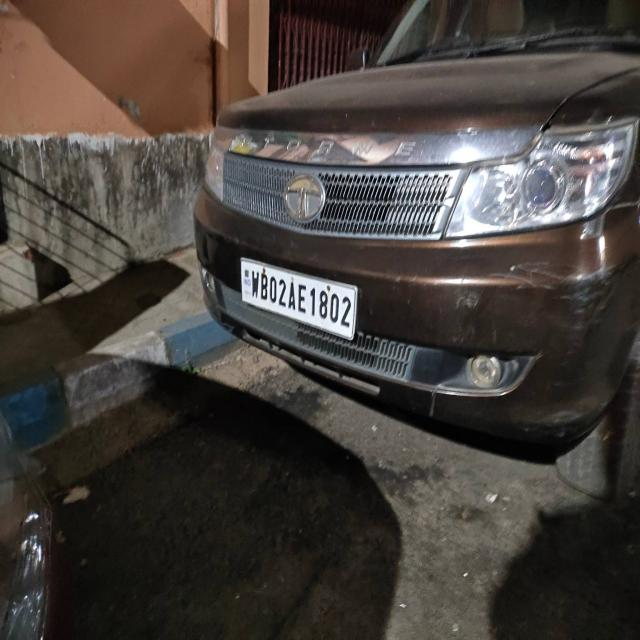license_plate: (238, 253, 362, 343)
